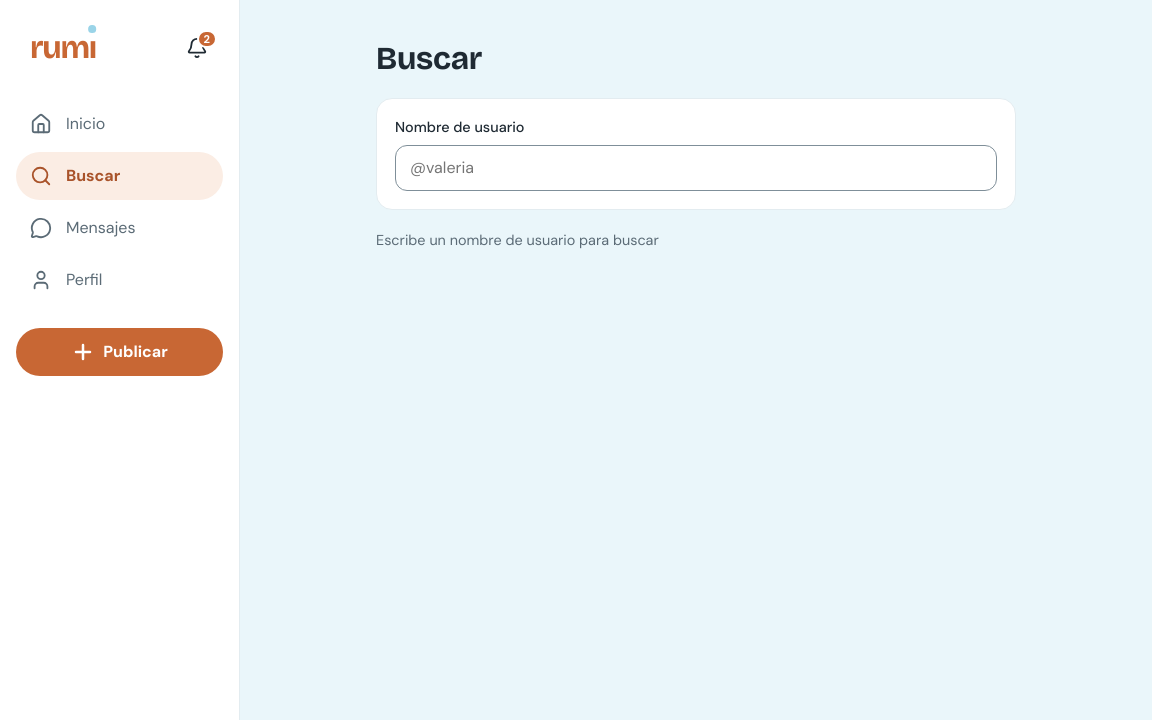
Test case: aceptar desde el resultado los vuelve amigos
In the field labelled "Nombre de usuario": (696, 168) [395, 145, 997, 191], type "sofia"
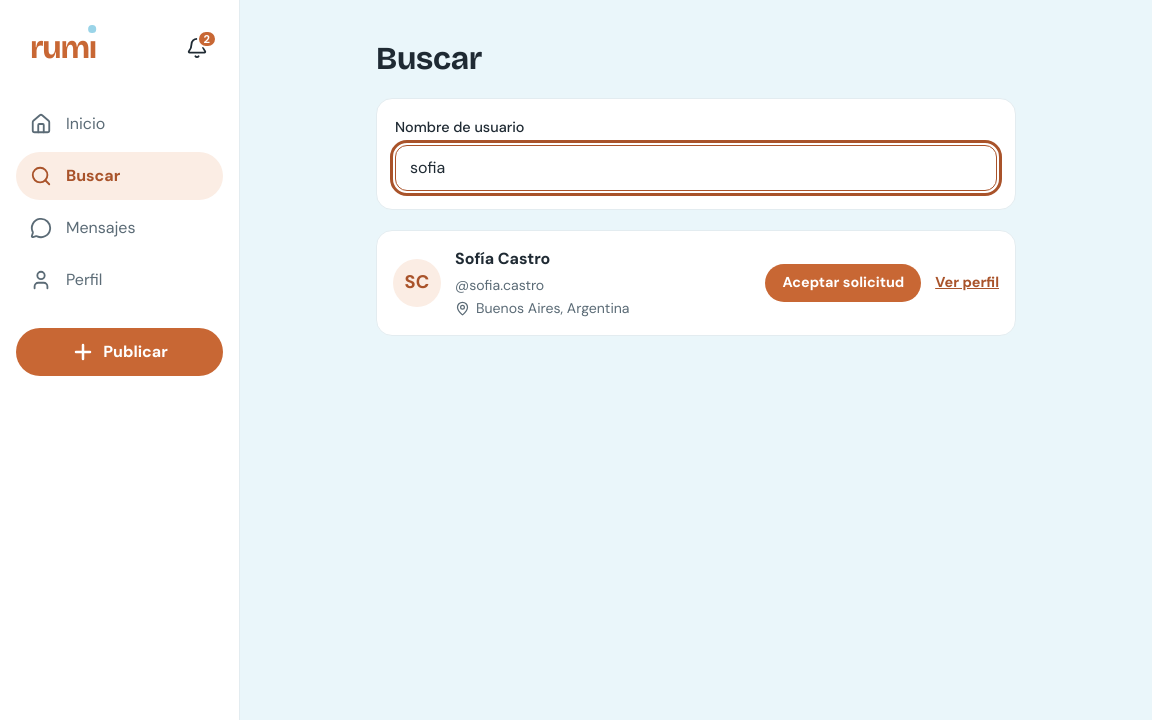
Click the button "Aceptar solicitud": (843, 283) [765, 264, 921, 302]
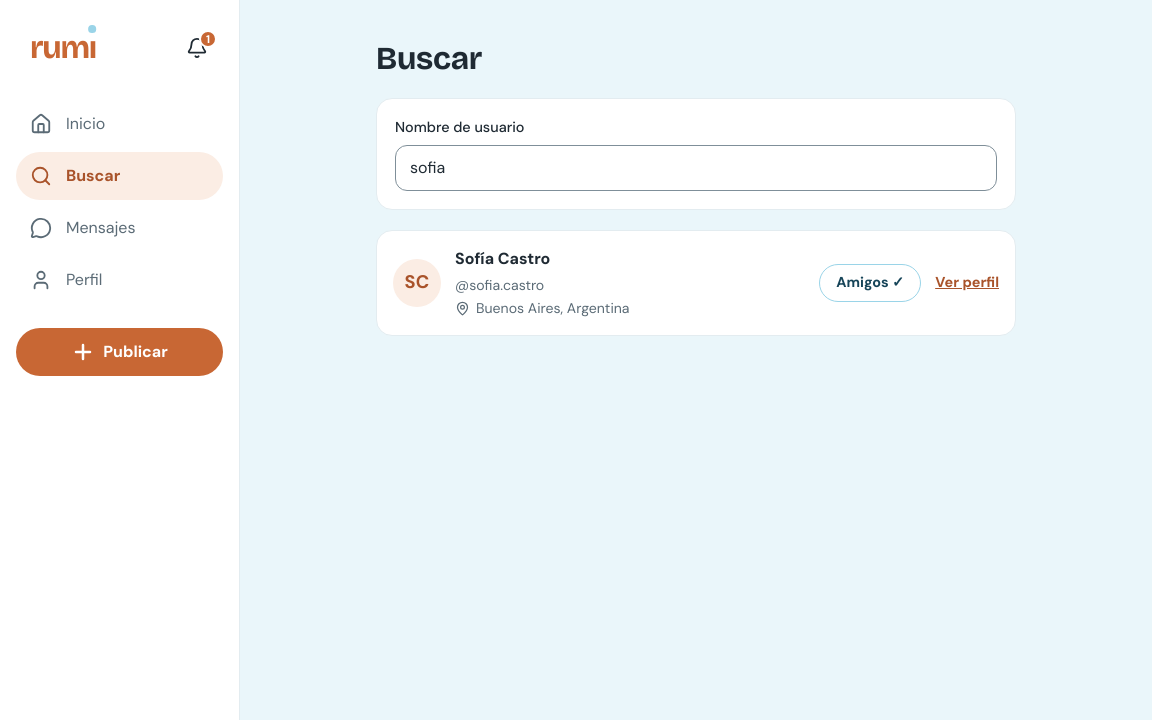
Expected: the button "Amigos ✓" is shown, [819, 264, 921, 302]
